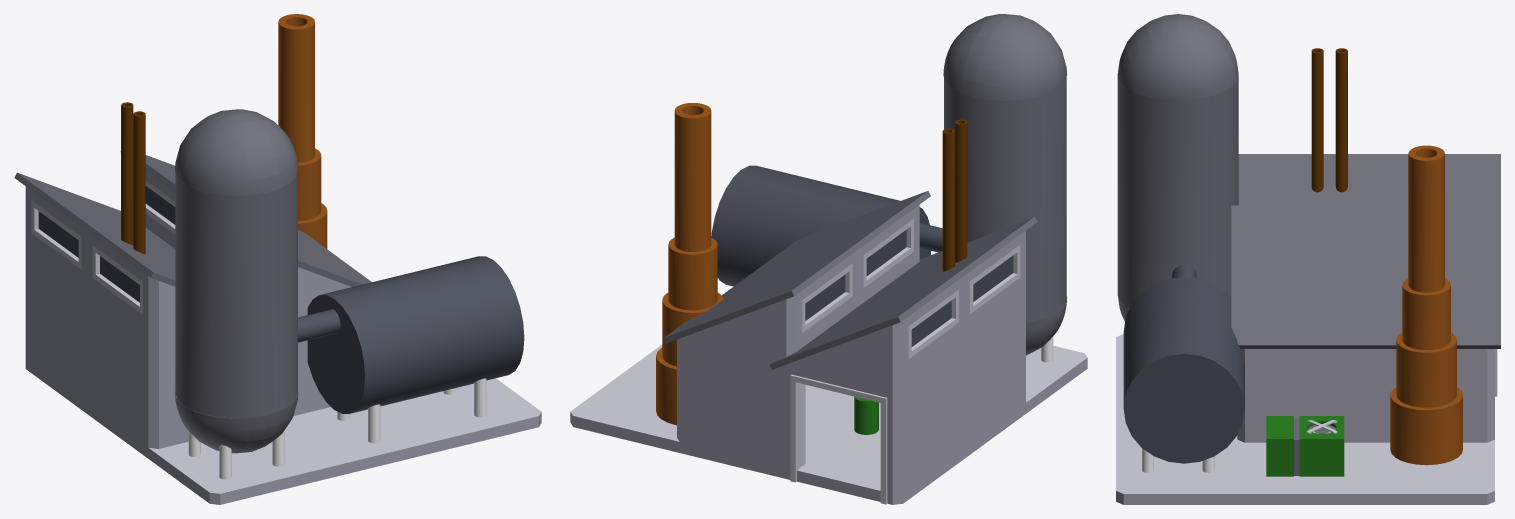
The model's file is factory.fbx.
3 renders of one model, left to right at view 1: azimuth 30°, elevation 25°; view 2: azimuth 150°, elevation 25°; view 3: azimuth 270°, elevation 25°, orthographic.
Parts seen in each view (by area): view 1: cylinder_full_343, cylinder_full_350, sphere_dome_344, roof_factorySlant_365, roof_factorySlant_366, wall_straight_356, roof_square_342, roof_square_341, wall_straight_357, roof_square_340, cylinder_hollow_368, sphere_dome_345 (+11 smaller); view 2: cylinder_full_343, roof_factorySlant_366, roof_factorySlant_367, wall_straight_362, cylinder_full_350, sphere_dome_344, wall_straight_357, roof_factorySlant_365, roof_factorySlant_364, wall_straight_356, roof_square_339, cylinder_hollow_368 (+14 smaller); view 3: cylinder_full_343, roof_factorySlant_364, cylinder_full_350, roof_factorySlant_367, wall_straight_360, sphere_dome_344, roof_square_336, roof_factorySlant_365, roof_square_340, roof_square_335, wall_straight_361, cylinder_hollow_368 (+8 smaller).
Part boxes in pixels (x1,y1,x2,y2): cylinder_full_343: (175,172,297,418); cylinder_full_350: (307,256,524,413); sphere_dome_344: (175,109,298,196); roof_factorySlant_365: (75,219,175,359); roof_factorySlant_366: (14,172,175,302); wall_straight_356: (87,303,158,457); roof_square_342: (148,431,328,504); roof_square_341: (284,404,435,478); wall_straight_357: (25,258,86,412); roof_square_340: (390,378,541,452); cylinder_hollow_368: (278,14,314,162); sphere_dome_345: (175,391,298,453); cylinder_full_343: (944,77,1066,321); roof_factorySlant_366: (769,262,975,404); roof_factorySlant_367: (663,236,869,378); wall_straight_362: (679,342,786,478); cylinder_full_350: (711,165,930,286); sphere_dome_344: (943,14,1067,100); wall_straight_357: (892,348,964,504); roof_factorySlant_365: (866,216,1037,357); roof_factorySlant_364: (725,191,930,306); wall_straight_356: (964,303,1025,457); roof_square_339: (786,418,964,504); cylinder_hollow_368: (674,103,711,251); cylinder_full_343: (1117,75,1238,308); roof_factorySlant_364: (1231,205,1379,354); cylinder_full_350: (1123,277,1244,463); roof_factorySlant_367: (1352,205,1500,354); wall_straight_360: (1245,349,1365,442); sphere_dome_344: (1117,14,1238,100); roof_square_336: (1358,439,1494,504); roof_factorySlant_365: (1238,154,1379,205); roof_square_340: (1116,439,1252,504); roof_square_335: (1237,442,1373,504); wall_straight_361: (1366,349,1494,442); cylinder_hollow_368: (1408,145,1444,292).
Bounding box in the file's own units: 31.68 × 32 × 31.75.
